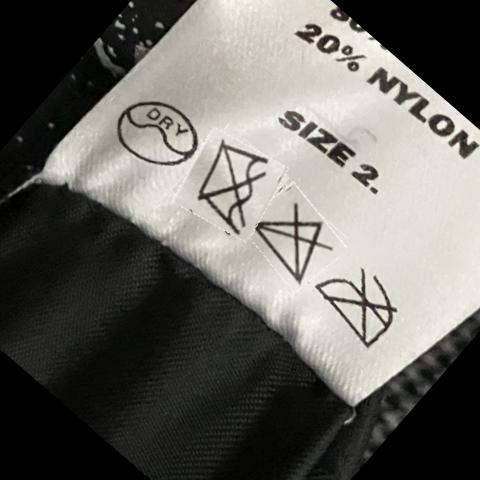DN_bleach: (257, 208, 330, 284)
DN_iron: (317, 263, 401, 354)
DN_wash: (195, 140, 269, 235)
dry_clean: (113, 96, 199, 165)
